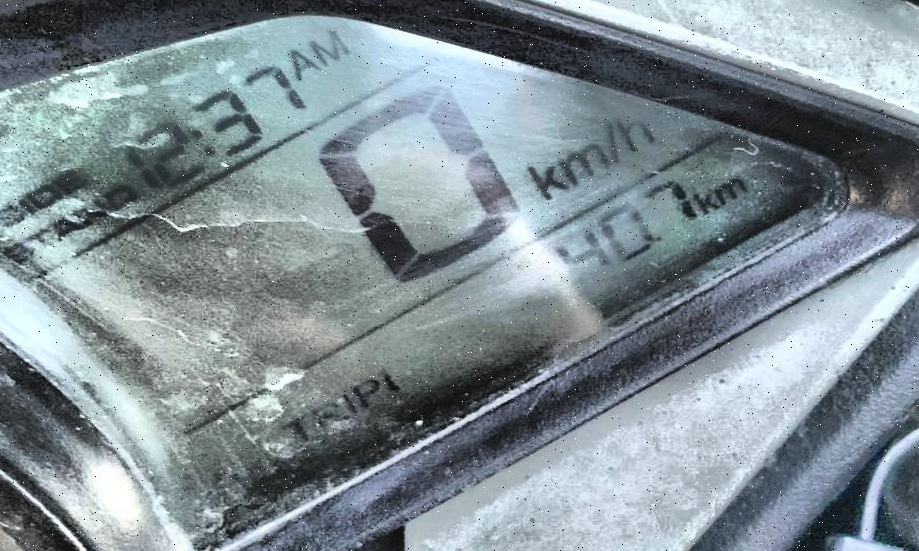-: (654, 232, 664, 245)
0: (315, 84, 521, 282), (597, 202, 655, 260)
1: (123, 143, 162, 190), (378, 369, 405, 395)
2: (134, 117, 202, 185)
3: (195, 88, 262, 154)
4: (552, 232, 612, 273)
7: (242, 64, 306, 112), (640, 179, 695, 226)
X: (557, 149, 611, 182), (307, 32, 353, 65), (525, 163, 568, 198), (614, 114, 655, 149), (275, 409, 311, 444), (287, 47, 322, 82), (310, 399, 348, 430), (712, 177, 750, 204), (350, 378, 382, 410), (602, 118, 624, 163), (26, 182, 63, 208), (72, 201, 109, 223), (49, 169, 83, 192), (188, 127, 214, 157), (692, 190, 720, 216), (2, 242, 34, 263), (25, 227, 54, 249), (55, 217, 84, 238), (104, 187, 136, 206), (0, 204, 21, 227), (15, 194, 35, 217), (340, 392, 359, 416)
